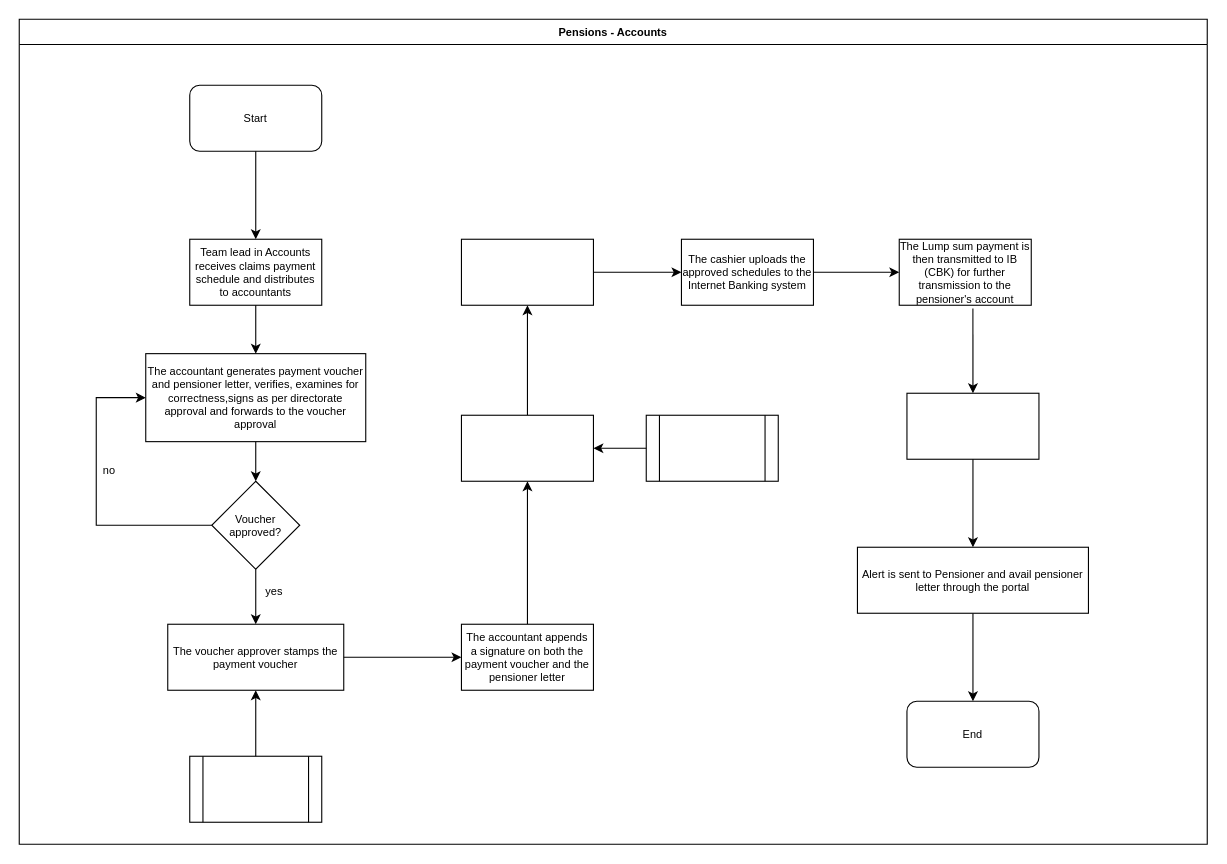
This 1227x864 diagram has some shape labels left out. The centre of each missing label's shape, as x and y in pixels:
"Alert is sent to cash office" belongs at [526,447].
"Alert is sent to payroll for Monthly pension payment" belongs at [972,425].
"Cashier receives the file, verifies, validates and generate payment schedules" belongs at [526,271].
"Feedback alert sent to pensioner" belongs at [711,447].
"Pensioner letter is auto generated" belongs at [255,788].
